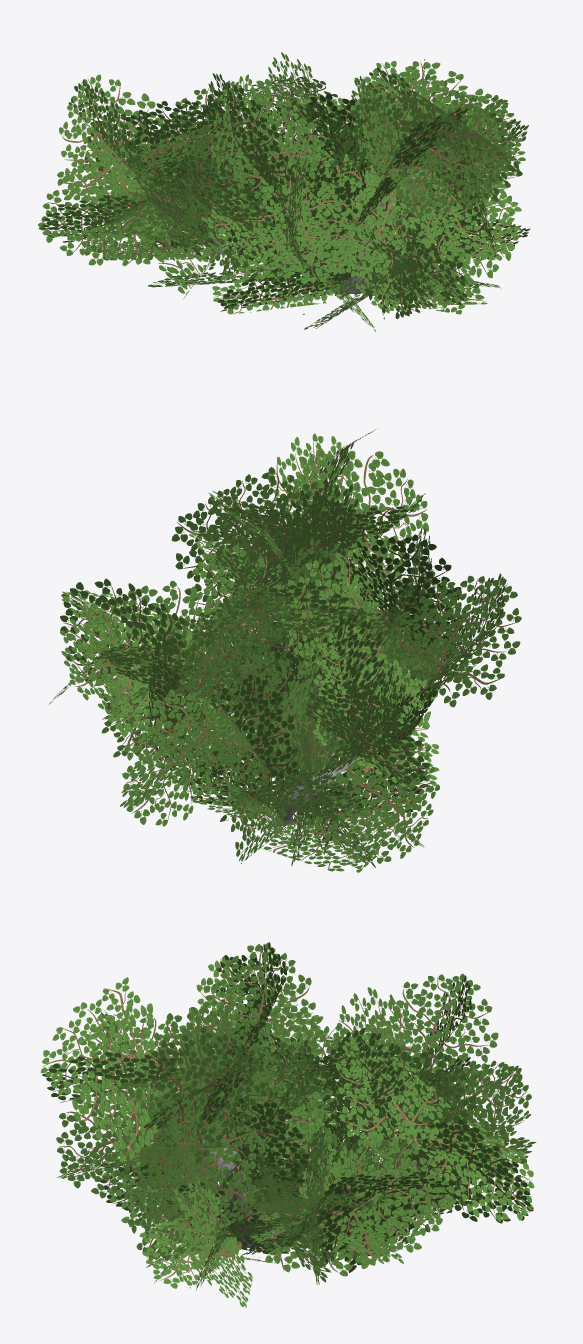
Rendered from Tree.fbx.
The picture shows the model from 3 angles, top to bottom: view 1: azimuth 30°, elevation 25°; view 2: azimuth 150°, elevation 25°; view 3: azimuth 270°, elevation 25°; orthographic projection. The views are drawn at different scales.
Visible parts, largest first — view 1: Plane; view 2: Plane; view 3: Plane.
Boxes of the visible parts, <box> form: Plane: <box>38,52,530,331</box>; Plane: <box>48,429,521,872</box>; Plane: <box>40,942,536,1307</box>.
Bounding box in the file's own units: 806 × 440 × 799.
